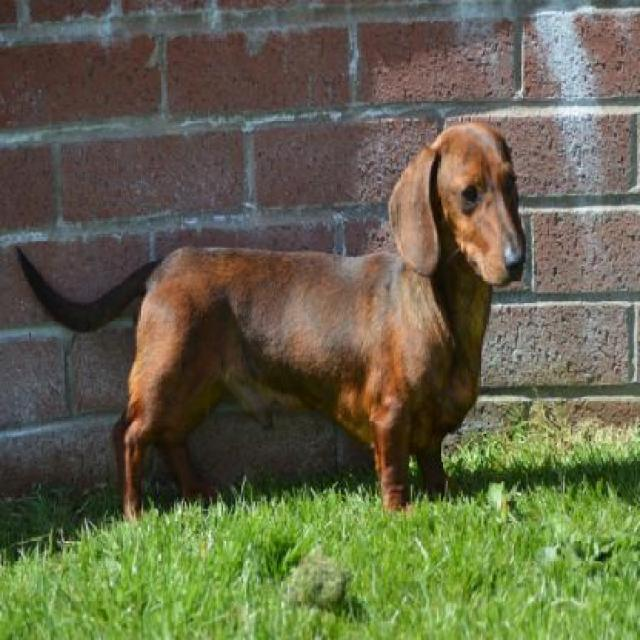Dog: (18, 117, 530, 521)
